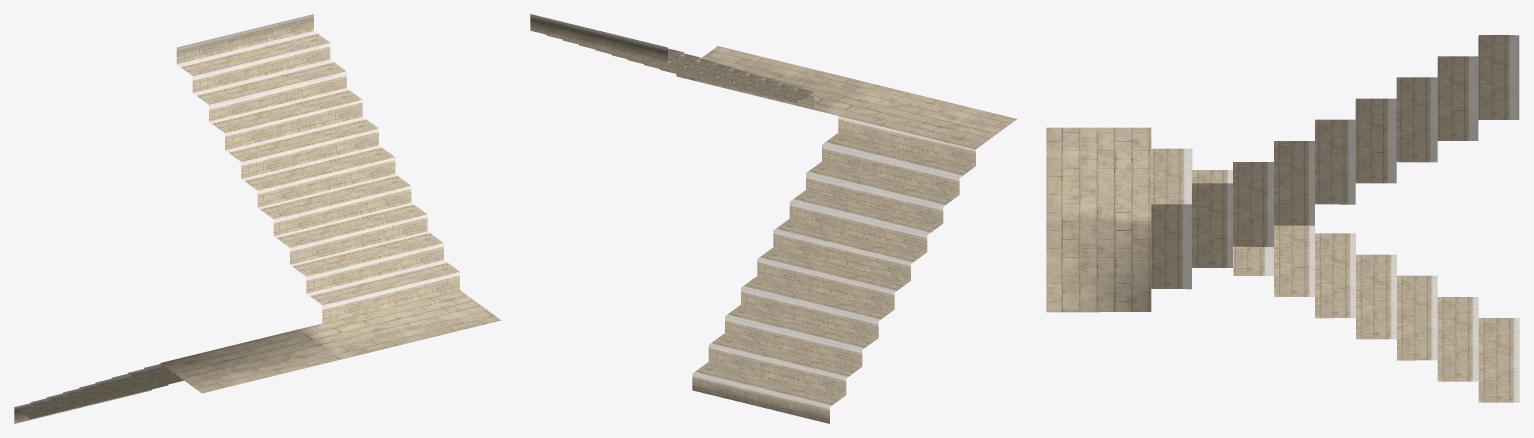
The model's file is stairs.obj.
3 views of the same model, side by side, from view 1: azimuth 30°, elevation 25°; view 2: azimuth 150°, elevation 25°; view 3: azimuth 270°, elevation 25° (orthographic). The views are drawn at different scales.
Parts seen in each view (by area): view 1: Object04; view 2: Object04; view 3: Object04.
Part boxes in pixels (bbox=[...]): Object04: bbox=[14, 14, 501, 423]; Object04: bbox=[530, 14, 1016, 423]; Object04: bbox=[1046, 35, 1519, 402].
Size of the model in its own units: 118 by 126 by 128.
Materials: 1 (1 with a texture image).
